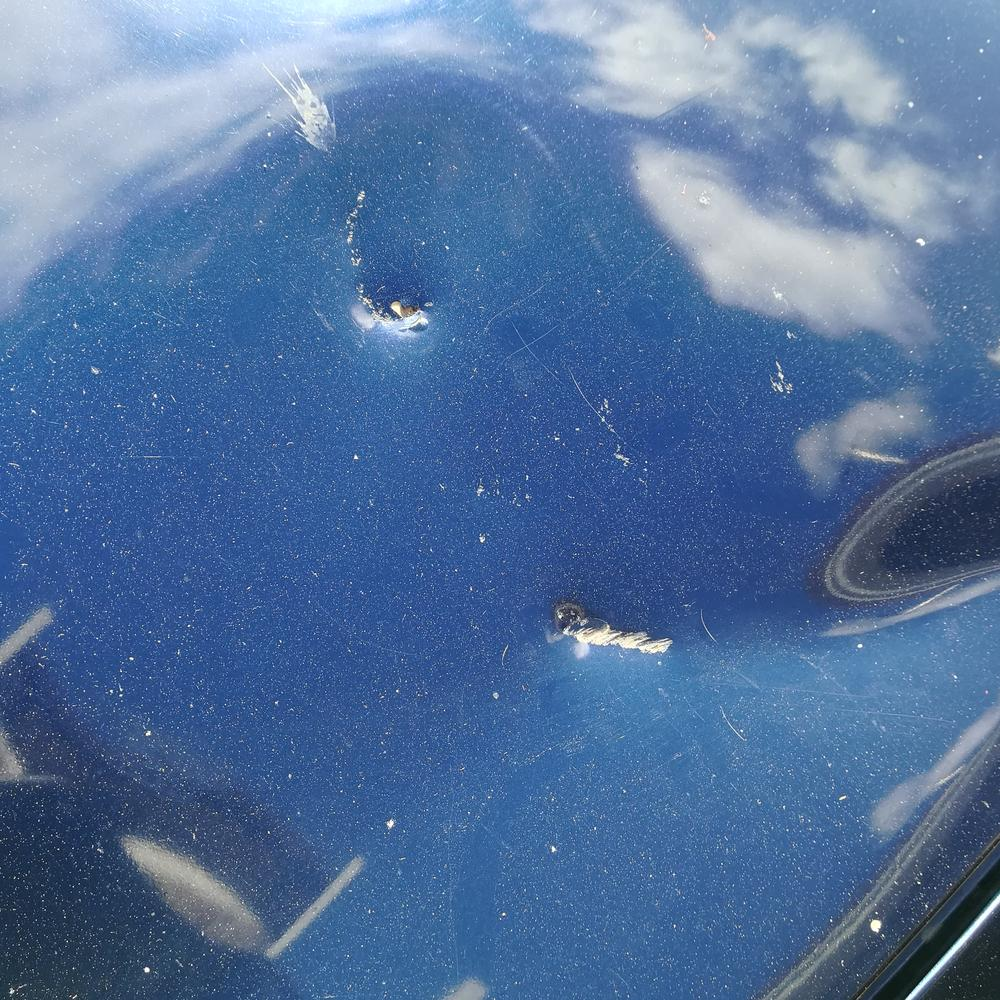dent: (327, 181, 451, 370), (521, 583, 718, 687)
